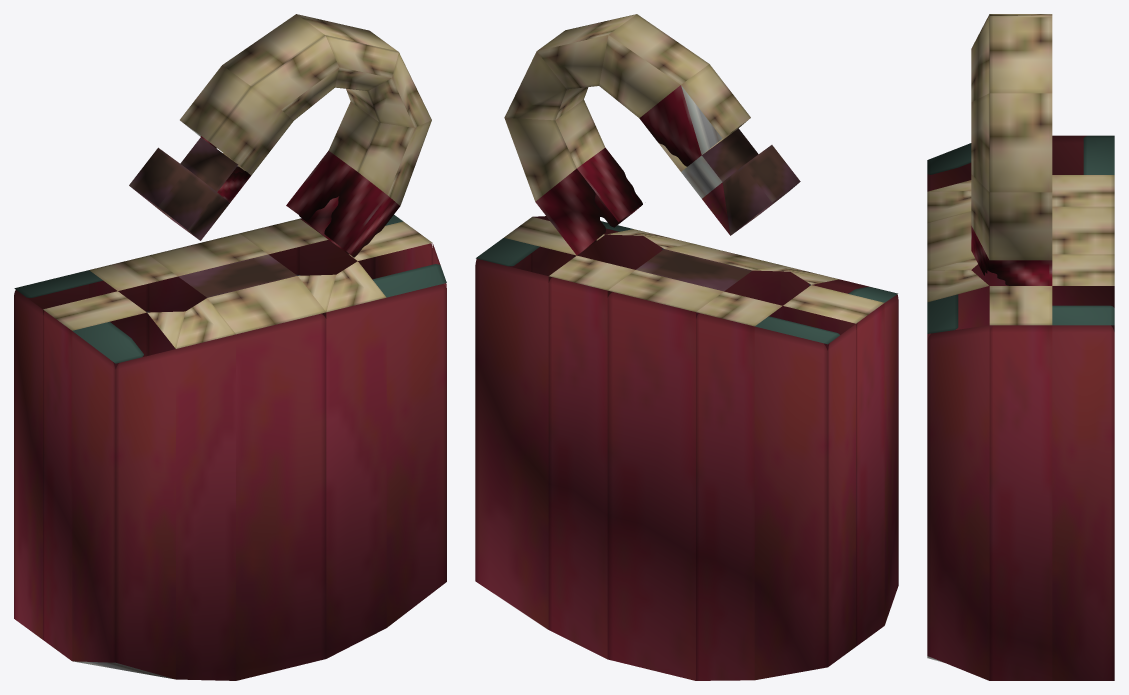
3 renders of one model, left to right at view 1: azimuth 30°, elevation 25°; view 2: azimuth 150°, elevation 25°; view 3: azimuth 270°, elevation 25°, orthographic. The views are drawn at different scales.
Parts seen in each view (by area): view 1: T1L2M006_25; view 2: T1L2M006_25; view 3: T1L2M006_25.
Part boxes in pixels (x1=…): T1L2M006_25: x1=14, y1=14, x2=446, y2=680; T1L2M006_25: x1=475, y1=14, x2=898, y2=680; T1L2M006_25: x1=927, y1=14, x2=1114, y2=680.
Bounding box in the file's own units: 0.4795 × 0.7764 × 0.2002.
